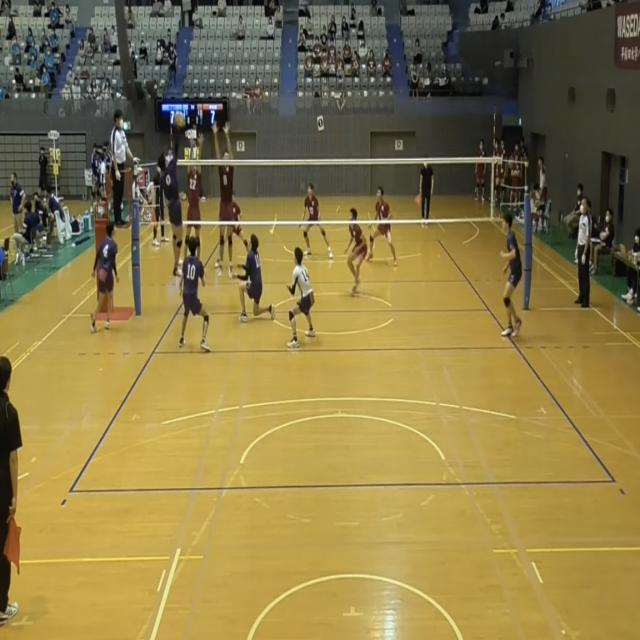spike: (156, 109, 192, 284)
